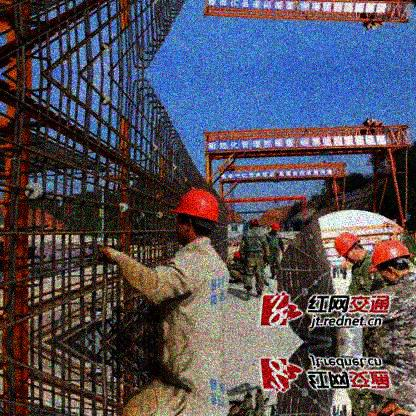helmet: (167, 189, 219, 244), (369, 240, 413, 284), (334, 232, 363, 266)
